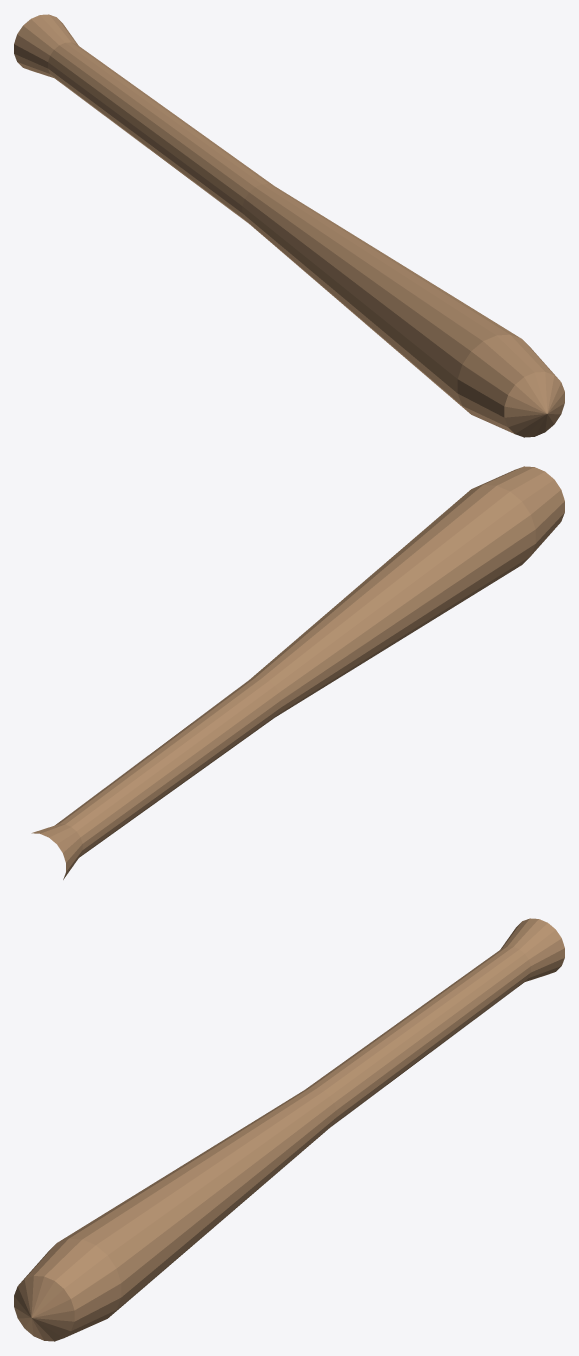
File: wpn_bat.glb
3 views of the same model, one above another, from view 1: azimuth 30°, elevation 25°; view 2: azimuth 150°, elevation 25°; view 3: azimuth 330°, elevation 25° (orthographic).
Visible parts, largest first — view 1: wpn_bat; view 2: wpn_bat; view 3: wpn_bat.
Boxes of the visible parts, <box> form: wpn_bat: <box>14,14,564,437</box>; wpn_bat: <box>31,466,564,879</box>; wpn_bat: <box>14,918,564,1341</box>.
Bounding box in the file's own units: 0.0709 × 0.072 × 0.8.
